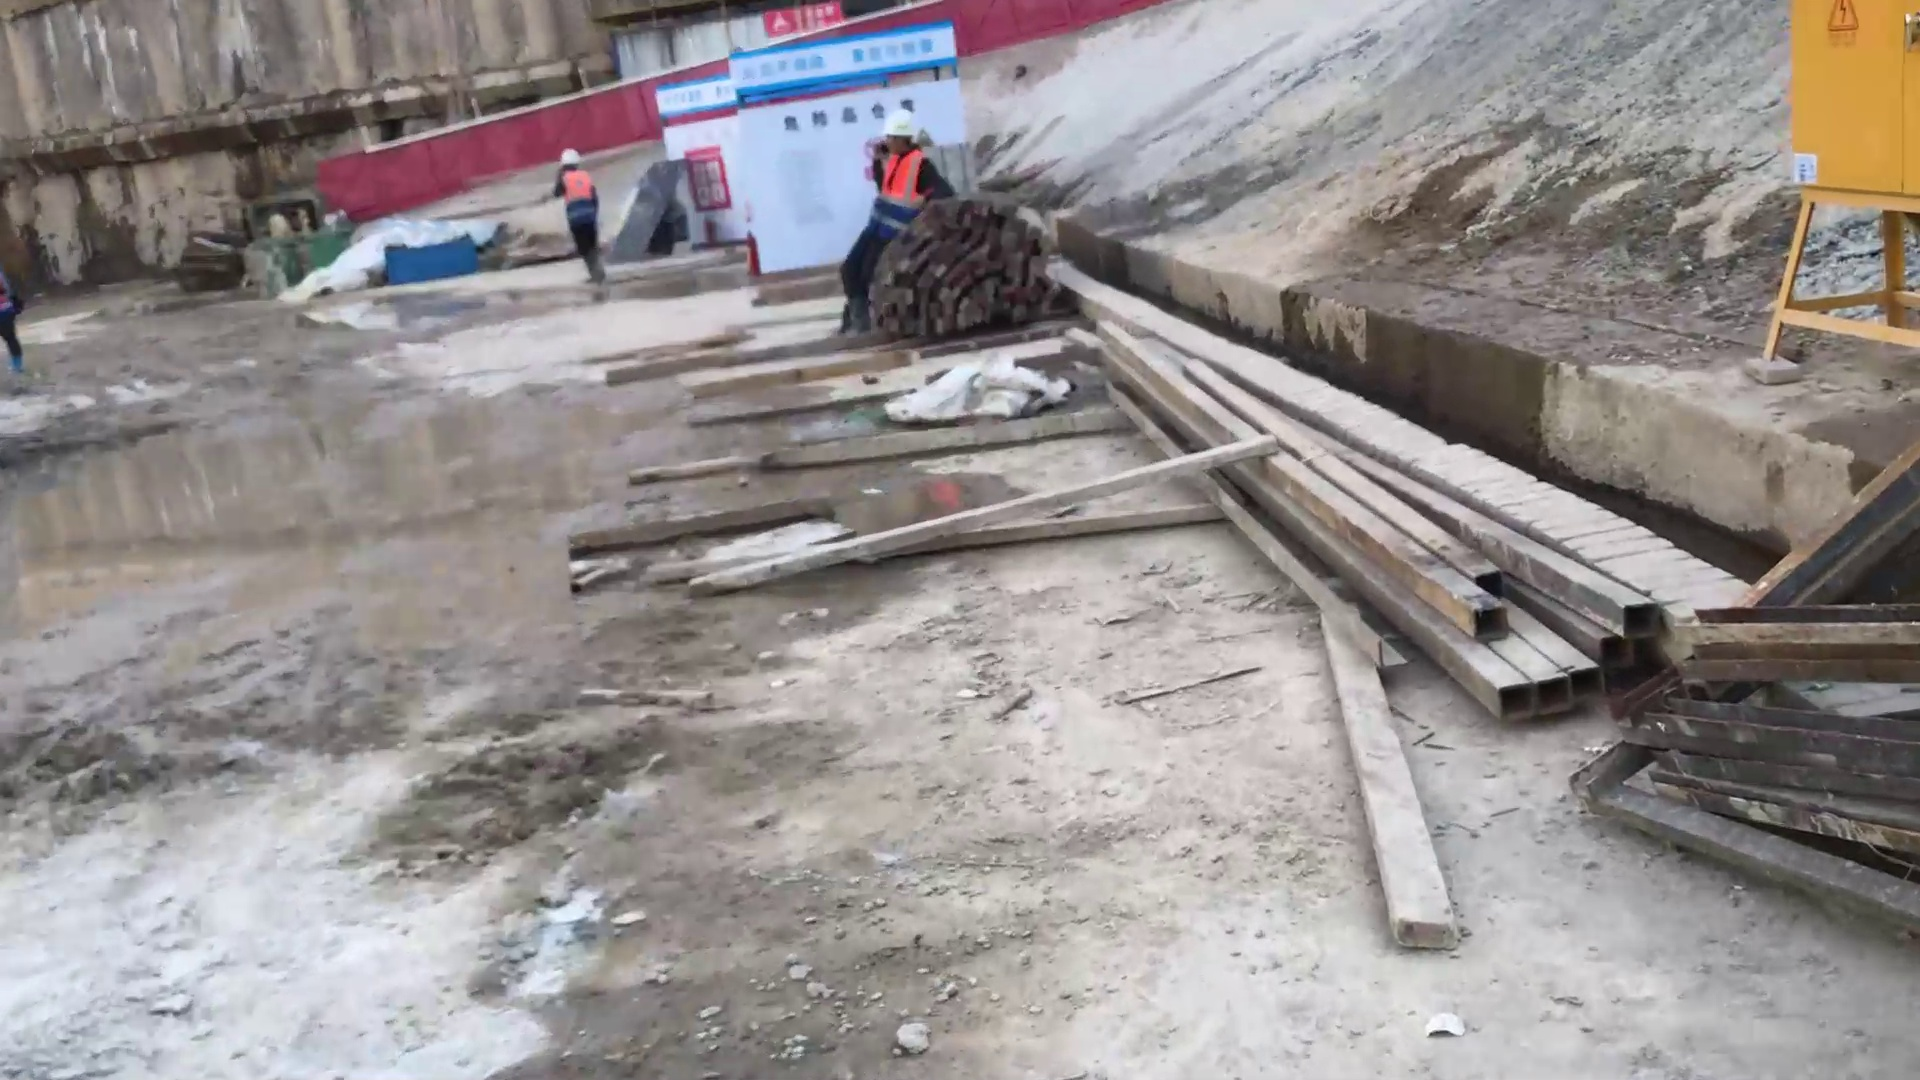ebox: (1765, 3, 1920, 359)
helmet: (556, 141, 590, 184), (885, 107, 912, 135)
person: (838, 112, 942, 346), (544, 142, 624, 289)
slogan: (738, 38, 971, 87)
vest: (871, 143, 923, 233), (554, 165, 616, 230)
wood: (861, 197, 1062, 347)
